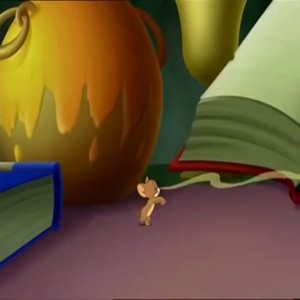Jerry: (133, 176, 166, 229)
